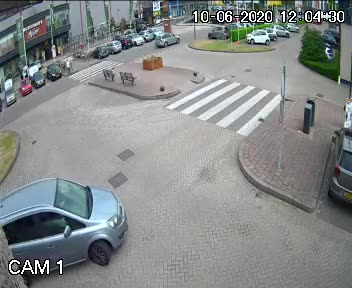car: (0, 170, 139, 281), (149, 29, 181, 51)
